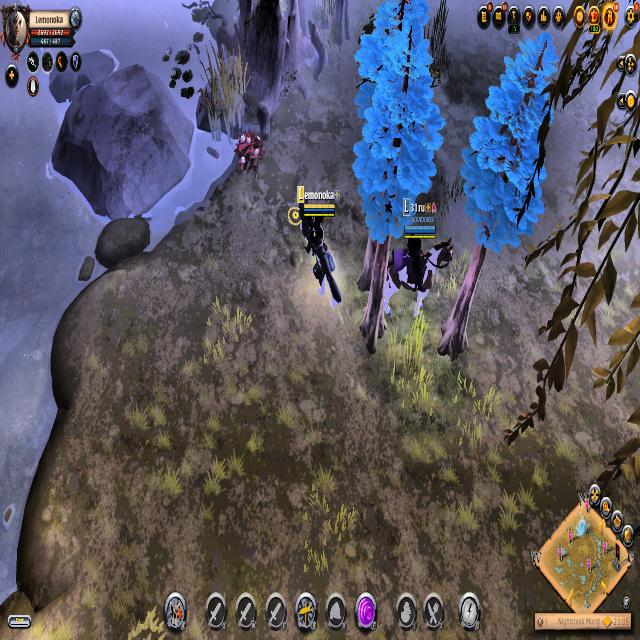fiber tier 5: (233, 125, 267, 181)
wood tier 4: (463, 34, 560, 253), (353, 18, 445, 243)
